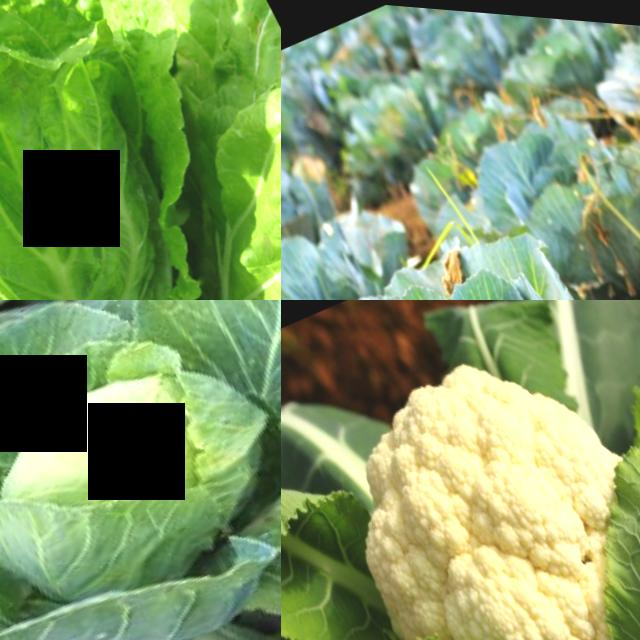cabbage: (0, 300, 281, 640), (0, 0, 281, 300), (310, 189, 640, 300)
cauliflower: (281, 300, 640, 640)
